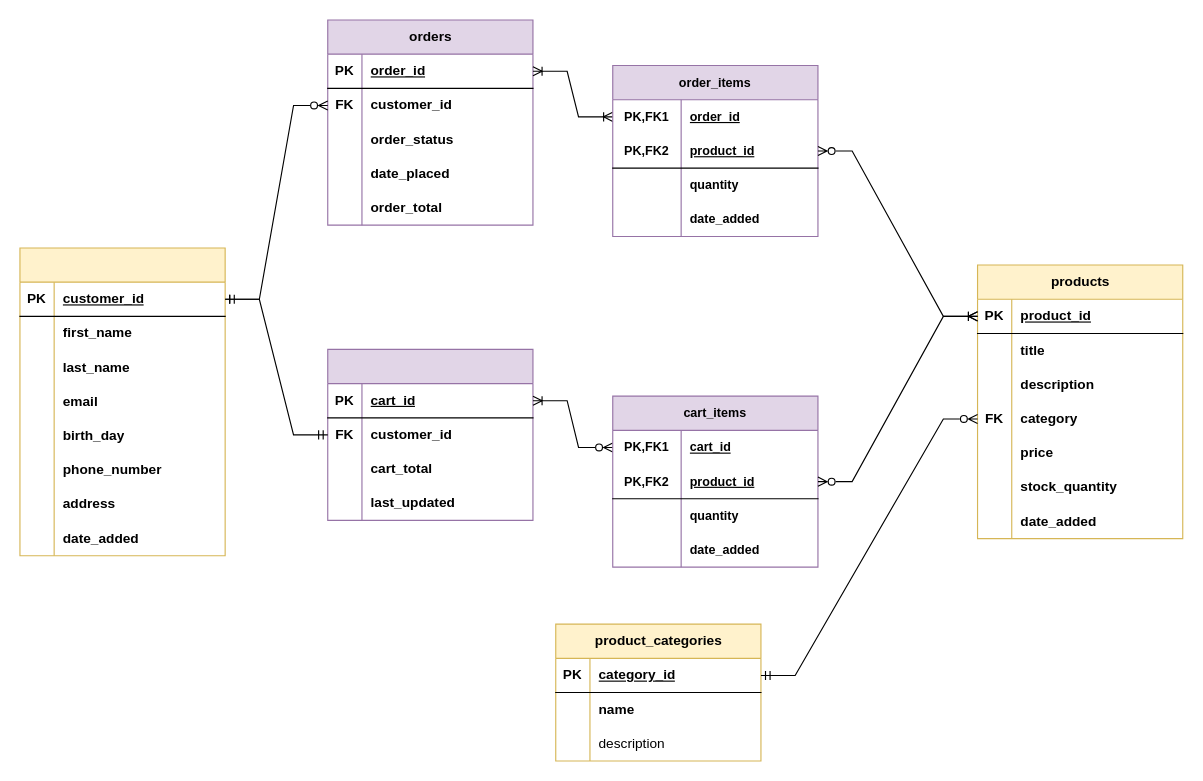
Some shapes in this 1203 by 781 pixel diagram are drawn without their labels. The shapes that lost their labels are listed below. From the top down, each one's box as (x1, y1, x2, y2) in pixels, then its label:
(19, 247, 225, 556): customers
(327, 348, 533, 520): carts
